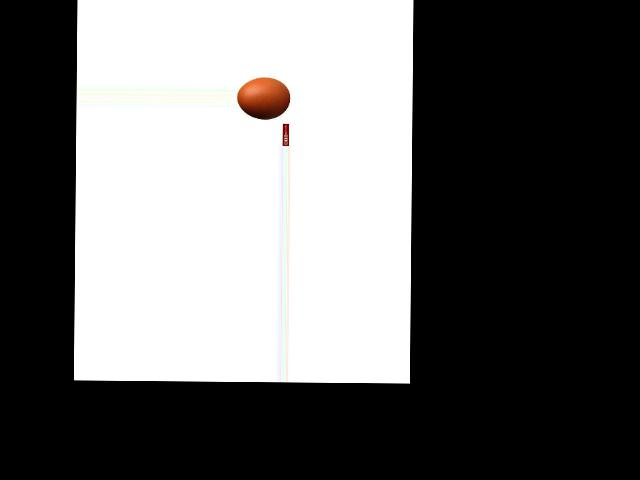egg: (237, 77, 290, 119)
